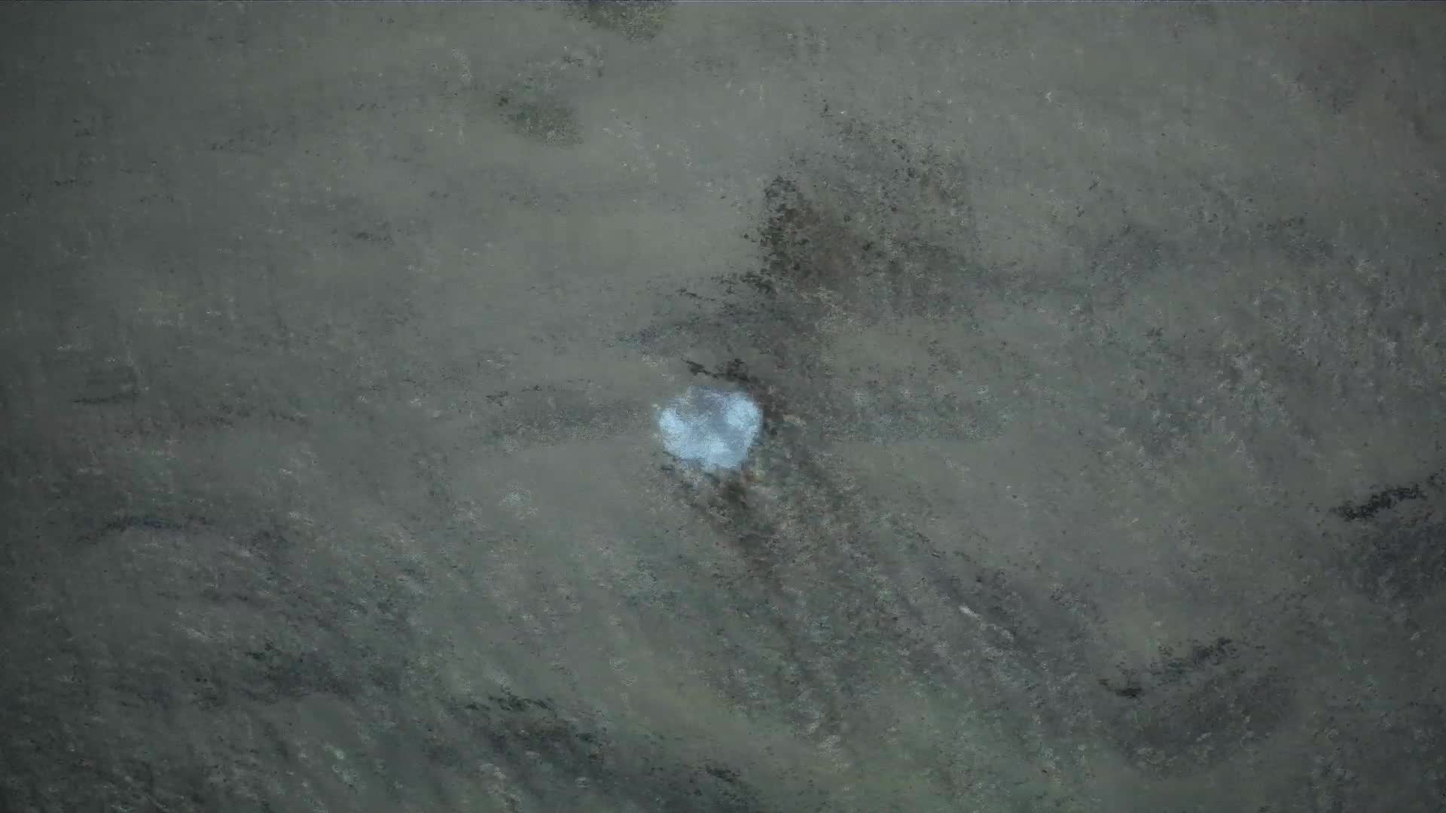Target: (649, 368, 768, 480)
